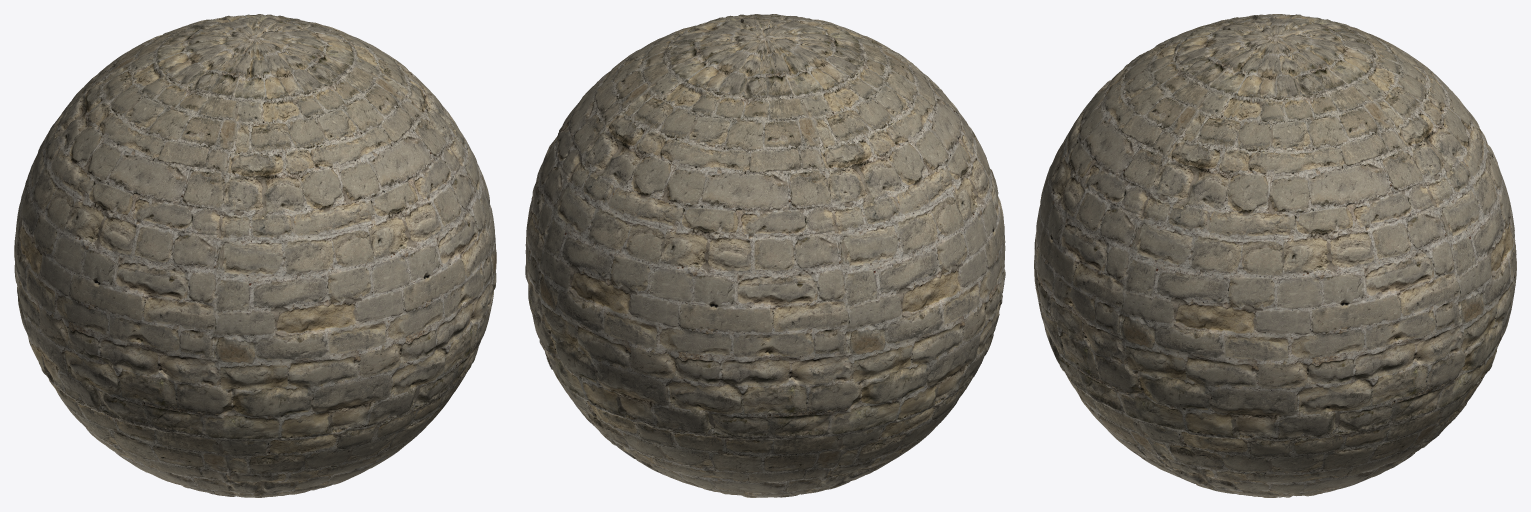
Rendered from white_sandstone_bricks_1k.gltf.
The picture shows the model from 3 angles, left to right: view 1: azimuth 30°, elevation 25°; view 2: azimuth 150°, elevation 25°; view 3: azimuth 270°, elevation 25°; orthographic projection.
Parts seen in each view (by area): view 1: sphere_gltf; view 2: sphere_gltf; view 3: sphere_gltf.
Boxes of the visible parts, <box> form: sphere_gltf: <box>14,14,496,497</box>; sphere_gltf: <box>525,14,1005,497</box>; sphere_gltf: <box>1034,14,1516,497</box>.
Bounding box in the file's own units: 2 × 2 × 2.
